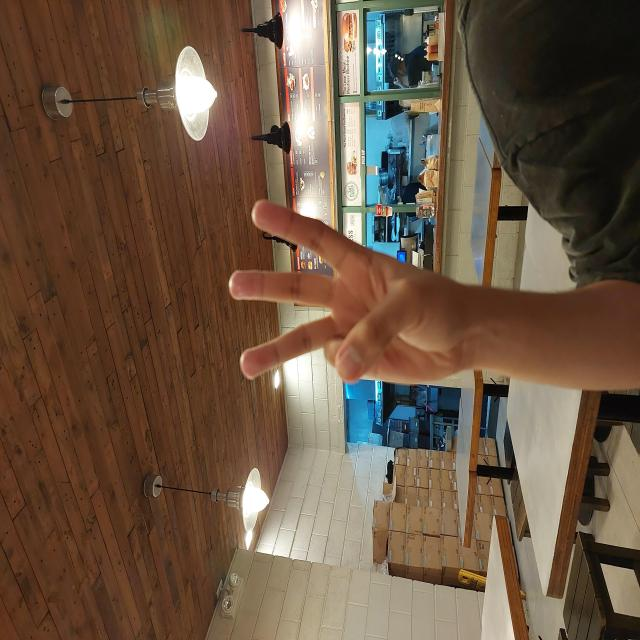W: (251, 227, 442, 465)
